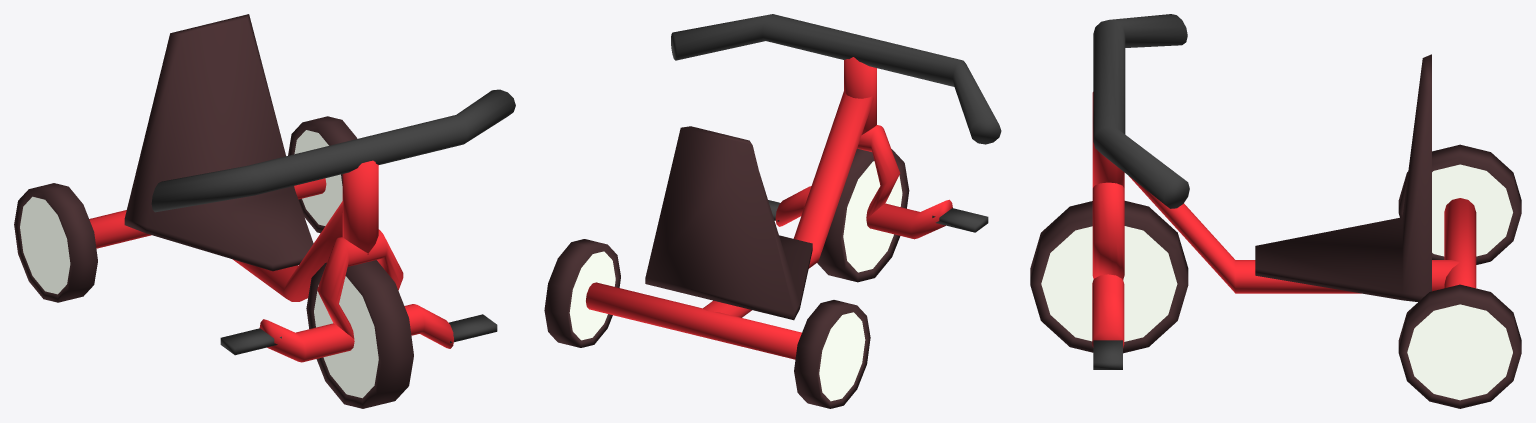
Rendered from Tricycle.fbx.
3 views of the same model, side by side, from view 1: azimuth 30°, elevation 25°; view 2: azimuth 150°, elevation 25°; view 3: azimuth 270°, elevation 25° (orthographic). The views are drawn at different scales.
Visible parts, largest first — view 1: Cylinder.005; view 2: Cylinder.005; view 3: Cylinder.005.
Part boxes in pixels (left/top/right/bottom): Cylinder.005: left=14, top=14, right=515, bottom=408; Cylinder.005: left=544, top=14, right=1001, bottom=408; Cylinder.005: left=1030, top=14, right=1521, bottom=408.
Bounding box in the file's own units: 51.5 × 35.65 × 57.55.
